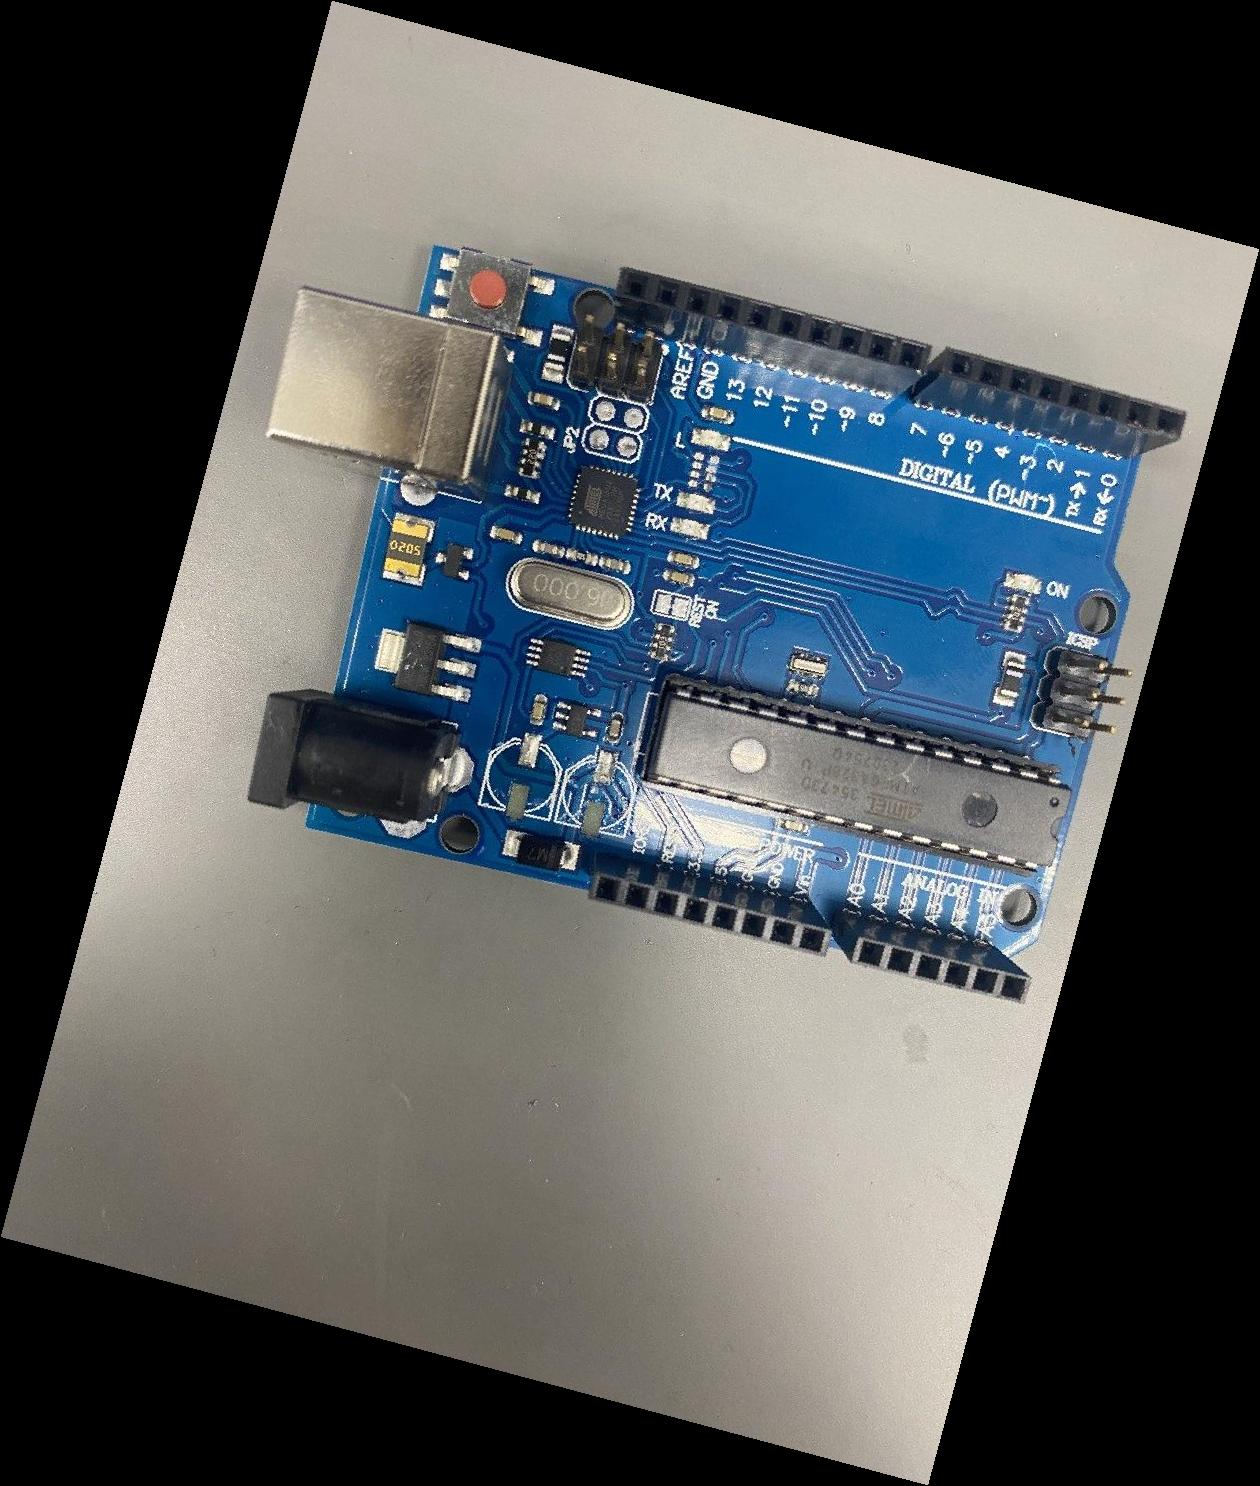ATmega328 chip: (638, 675, 1072, 878)
Arduino board: (245, 244, 1188, 1005)
USB: (263, 284, 513, 504)
pins: (612, 263, 932, 397), (913, 346, 1188, 460), (586, 850, 832, 958), (831, 909, 1033, 1004)
resistor: (489, 619, 834, 666), (360, 437, 704, 482), (845, 591, 1187, 636)
